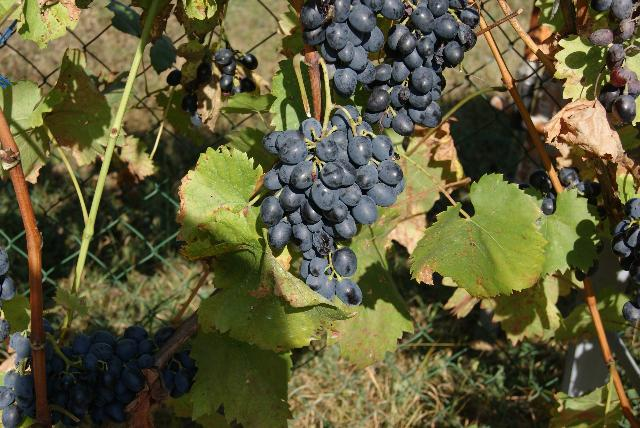grapes: (260, 106, 405, 306), (365, 0, 480, 128), (49, 326, 175, 428), (300, 0, 405, 98), (0, 371, 35, 428), (162, 349, 198, 399)
